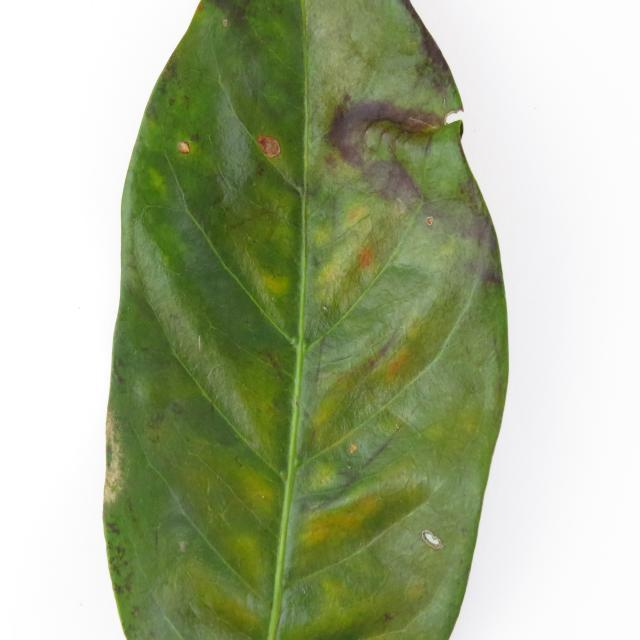DeficienciaNutricional-Potasio: (104, 2, 508, 638)
